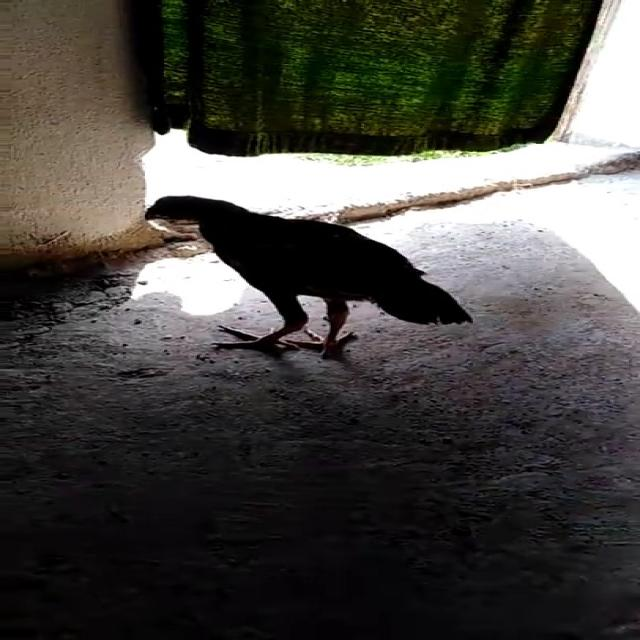newcastle: (113, 174, 510, 368)
